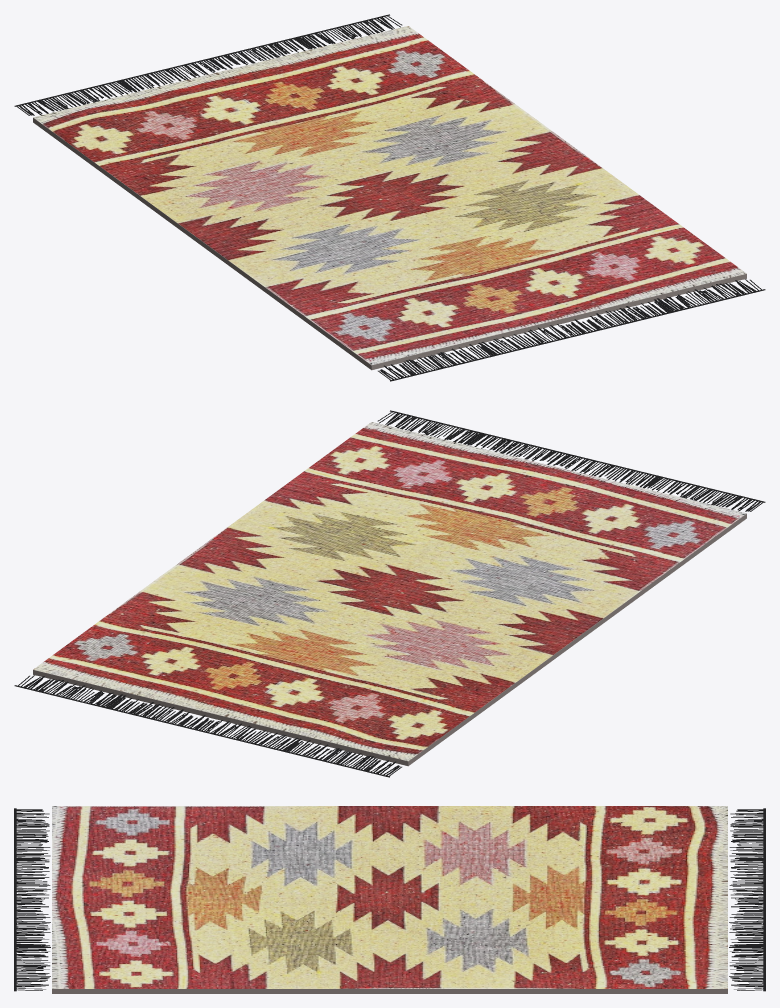
3 views of the same model, one above another, from view 1: azimuth 30°, elevation 25°; view 2: azimuth 150°, elevation 25°; view 3: azimuth 270°, elevation 25° (orthographic).
Parts seen in each view (by area): view 1: rug, fringeB, fringeA, side; view 2: rug, fringeA, fringeB, side; view 3: rug, fringeB, fringeA, side.
Boxes of the visible parts, x1,y1,x2,y2 form: rug: [33, 26, 746, 365]; fringeB: [378, 279, 765, 381]; fringeA: [14, 14, 402, 115]; side: [33, 117, 746, 370]; rug: [33, 422, 746, 761]; fringeA: [14, 675, 401, 777]; fringeB: [377, 410, 765, 511]; side: [33, 513, 746, 766]; rug: [52, 806, 727, 988]; fringeB: [14, 808, 50, 991]; fringeA: [729, 808, 765, 991]; side: [52, 989, 727, 993].
Size of what is drawn, in the model's own units: 0.8 by 0.0102 by 1.39.
Materials: 2 (2 with a texture image).
